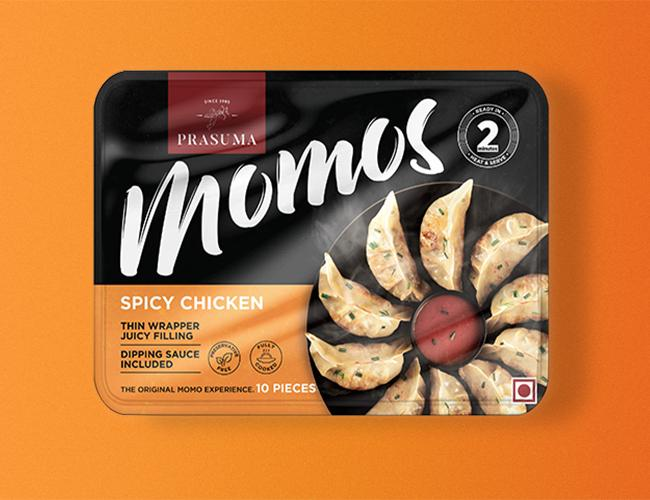momos: (319, 253, 413, 337), (470, 213, 548, 305), (367, 192, 430, 302), (306, 333, 413, 390), (420, 179, 472, 290), (458, 359, 527, 415), (481, 328, 547, 385), (486, 274, 548, 333), (367, 357, 427, 415), (430, 368, 471, 415)
